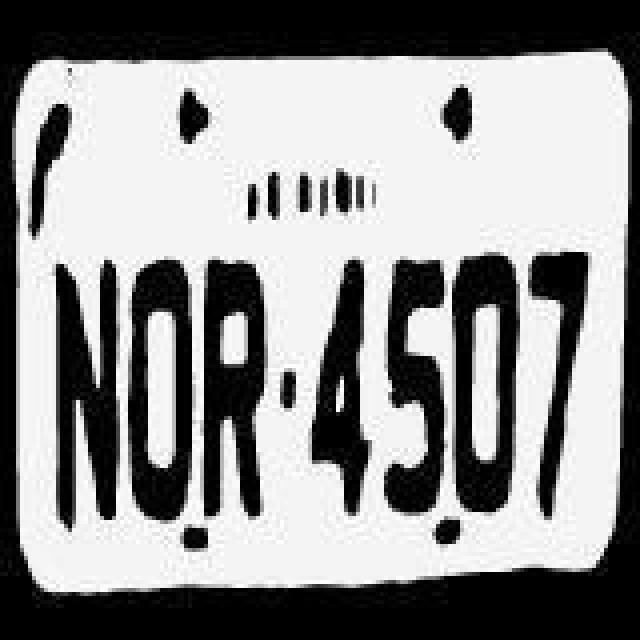4: (300, 246, 372, 522)
5: (380, 246, 452, 522)
7: (522, 218, 598, 534)
N: (50, 254, 126, 530)
O: (124, 252, 196, 524), (450, 244, 518, 524)
R: (194, 252, 278, 524)
